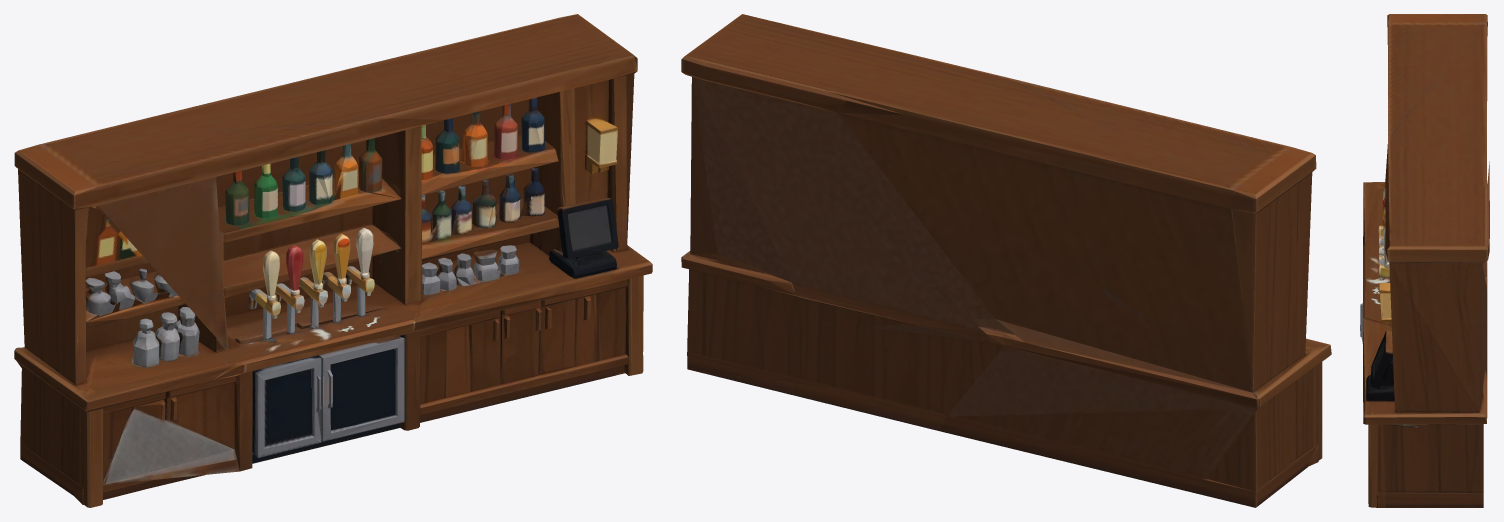
Rendered from backbar.glb.
The picture shows the model from 3 angles, left to right: view 1: azimuth 30°, elevation 25°; view 2: azimuth 150°, elevation 25°; view 3: azimuth 270°, elevation 25°; orthographic projection. The views are drawn at different scales.
Size of the model in its own units: 1.9 by 0.9878 by 0.442.
Materials: 1 (1 with a texture image).
